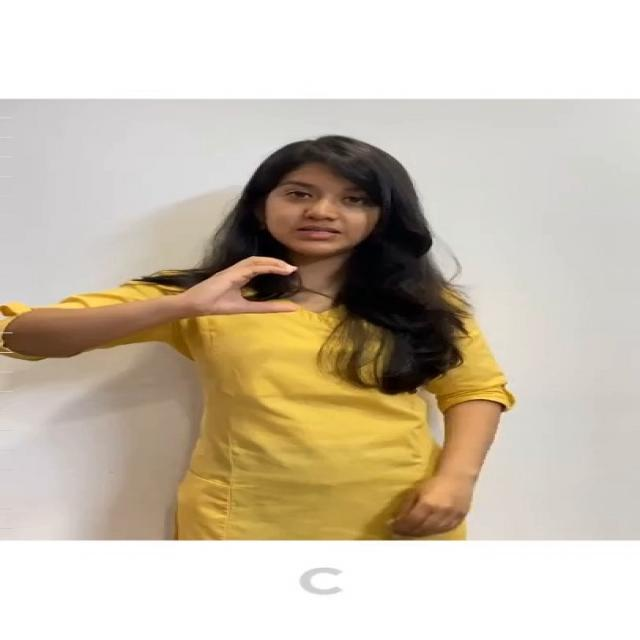c: (169, 249, 310, 326)
